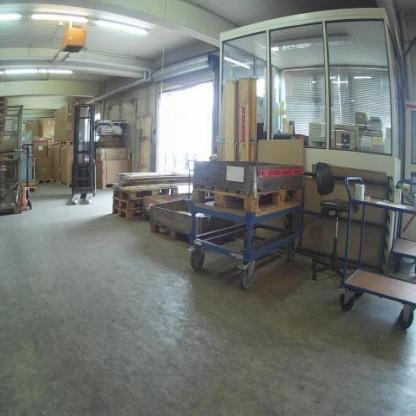pallets: (188, 178, 305, 217), (109, 179, 181, 222), (31, 177, 80, 191)
